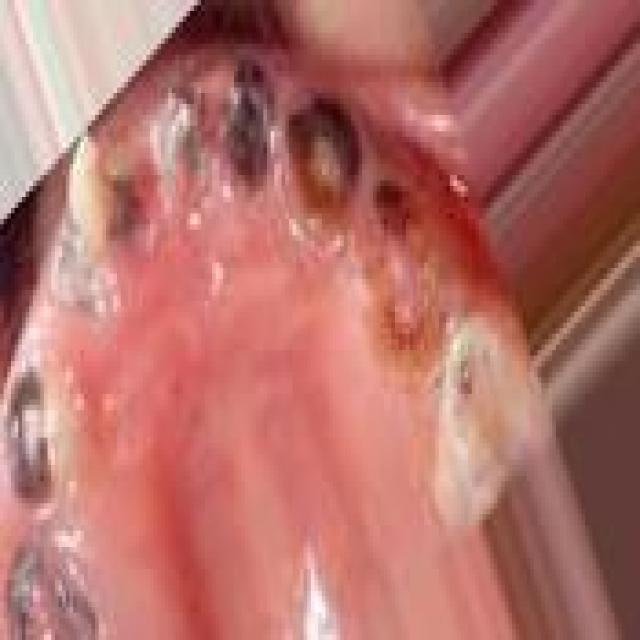caries: (352, 184, 446, 380), (282, 80, 377, 236), (0, 519, 120, 640), (59, 147, 145, 306), (0, 344, 77, 508), (204, 52, 288, 196), (142, 85, 220, 226)
